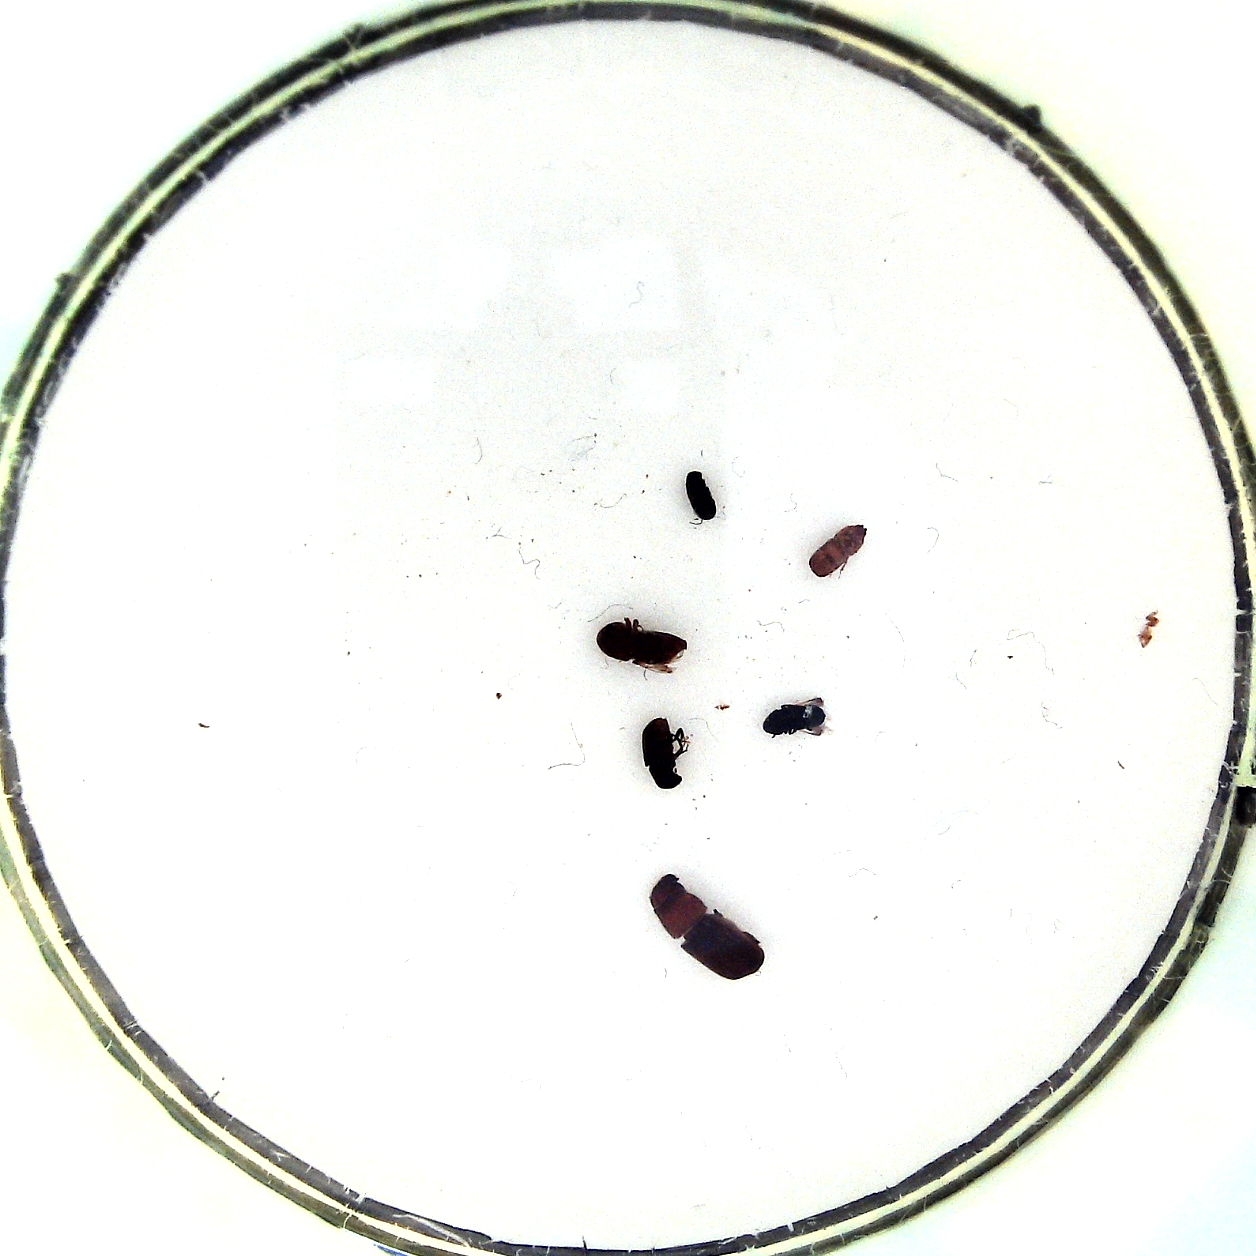Leconte: (646, 866, 771, 982)
Linnaeus: (604, 610, 692, 674)
acuminatus: (809, 516, 872, 584)
armandi: (638, 712, 695, 796)
coleoptera: (758, 686, 830, 741), (679, 466, 718, 527)
